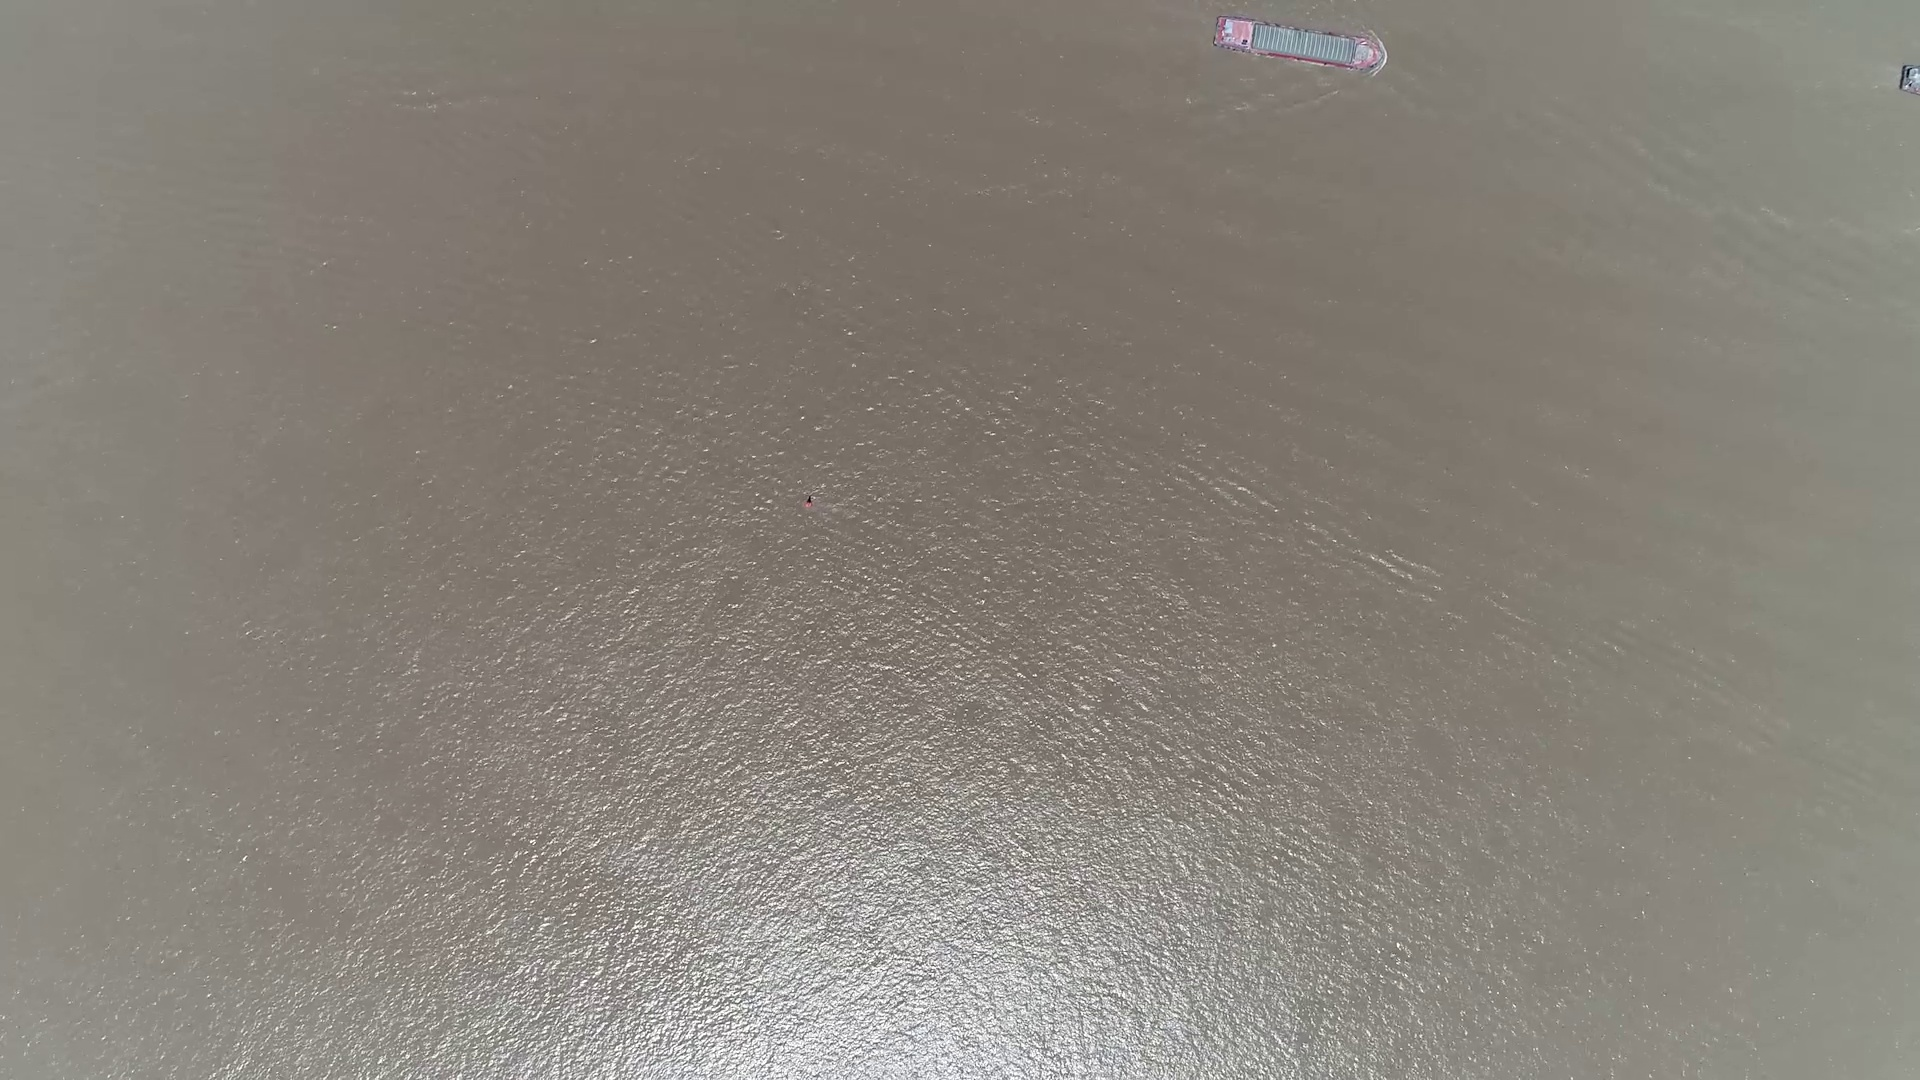ship: (1212, 16, 1385, 71)
